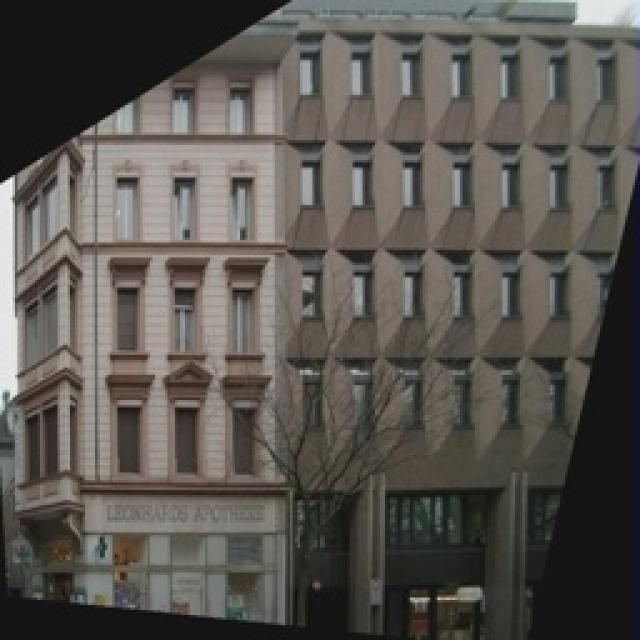building: (22, 15, 640, 640)
